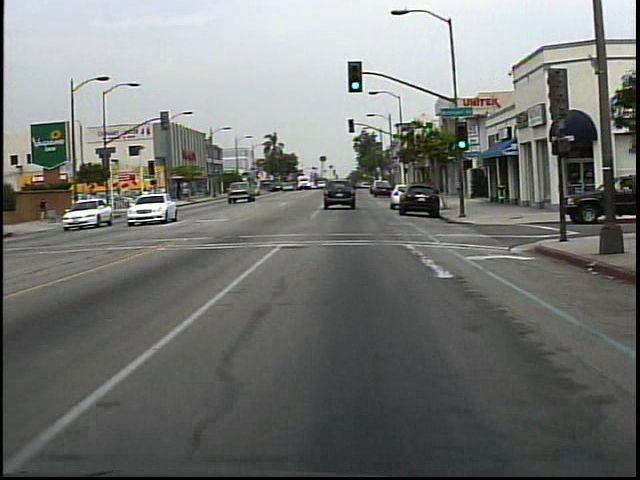person: (37, 195, 56, 224), (141, 185, 157, 209)
